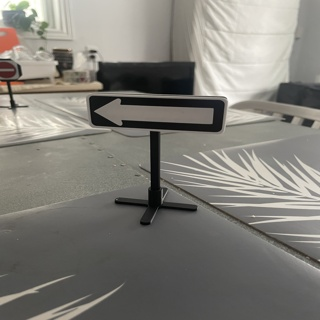sign_oneway_left: (93, 97, 225, 130)
